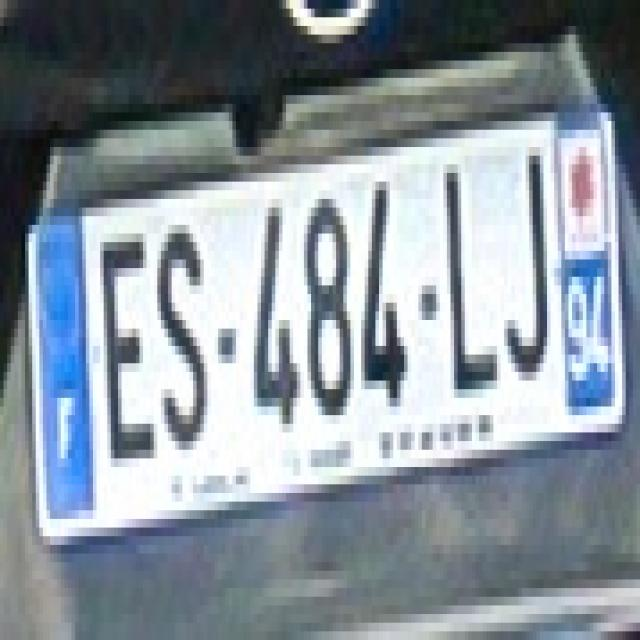EU: (29, 112, 632, 547)
France: (37, 217, 95, 529)
